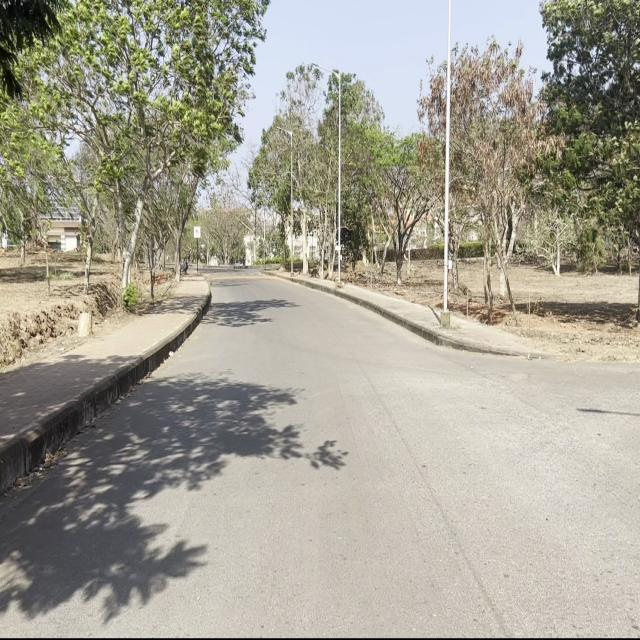Road: (3, 269, 635, 632)
